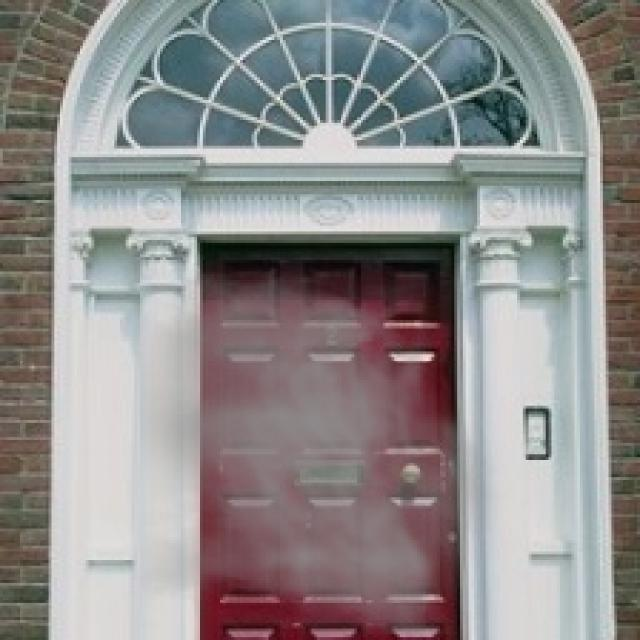smoke: (140, 272, 509, 634)
